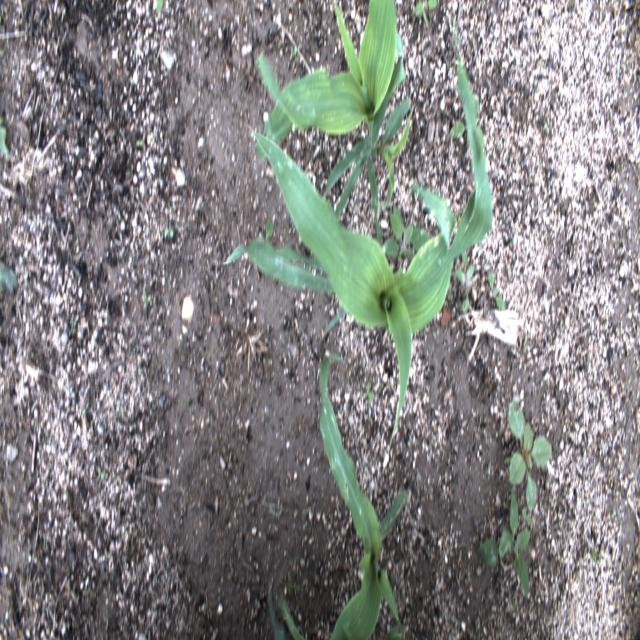crop: (215, 31, 492, 440), (252, 0, 416, 235), (316, 352, 408, 638), (268, 574, 305, 638)
weed: (505, 394, 553, 522), (480, 494, 534, 592), (383, 202, 429, 260), (455, 258, 478, 313), (482, 266, 507, 314), (410, 0, 439, 32), (1, 256, 21, 300), (158, 224, 183, 253), (0, 112, 11, 167), (136, 282, 155, 310), (88, 461, 110, 485), (286, 33, 303, 64), (359, 378, 374, 407), (130, 133, 152, 152), (588, 545, 605, 568), (151, 3, 168, 17)
